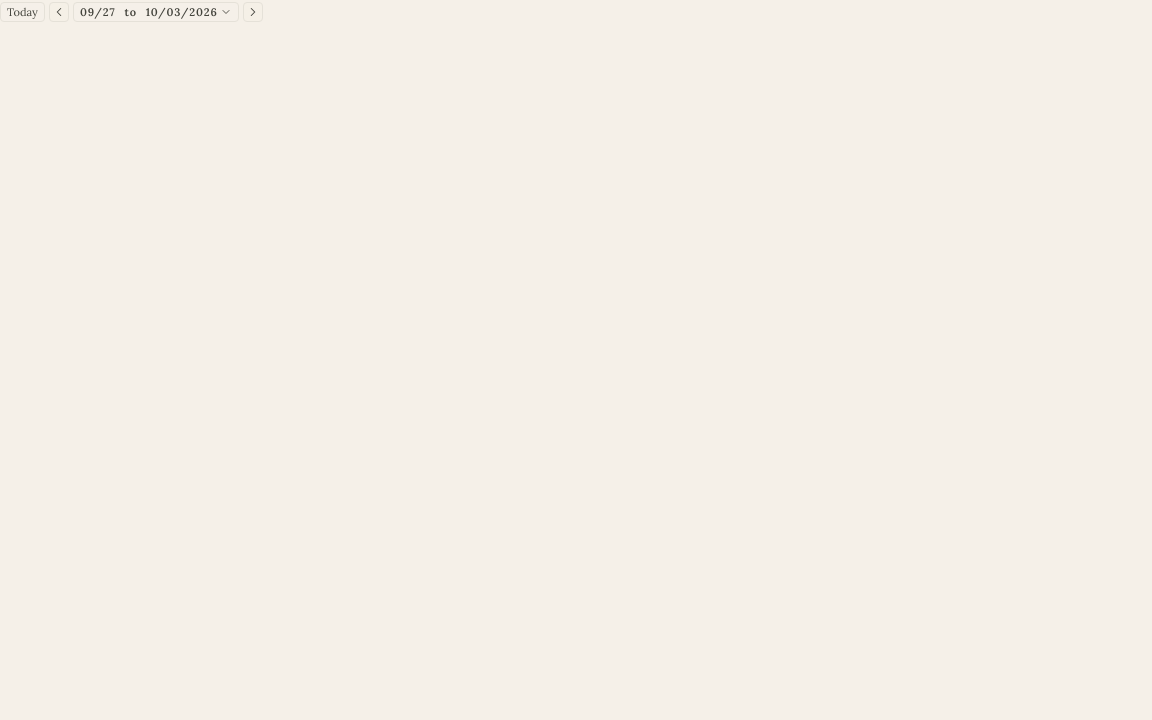
Test: WeekSelector › opens a calendar from the range button and picks the week of a clicked day
The image size is (1152, 720).
Click the button "09/27 to 10/03/2026".
click(156, 12)  # box top-left (73, 2), bottom-right (239, 22)
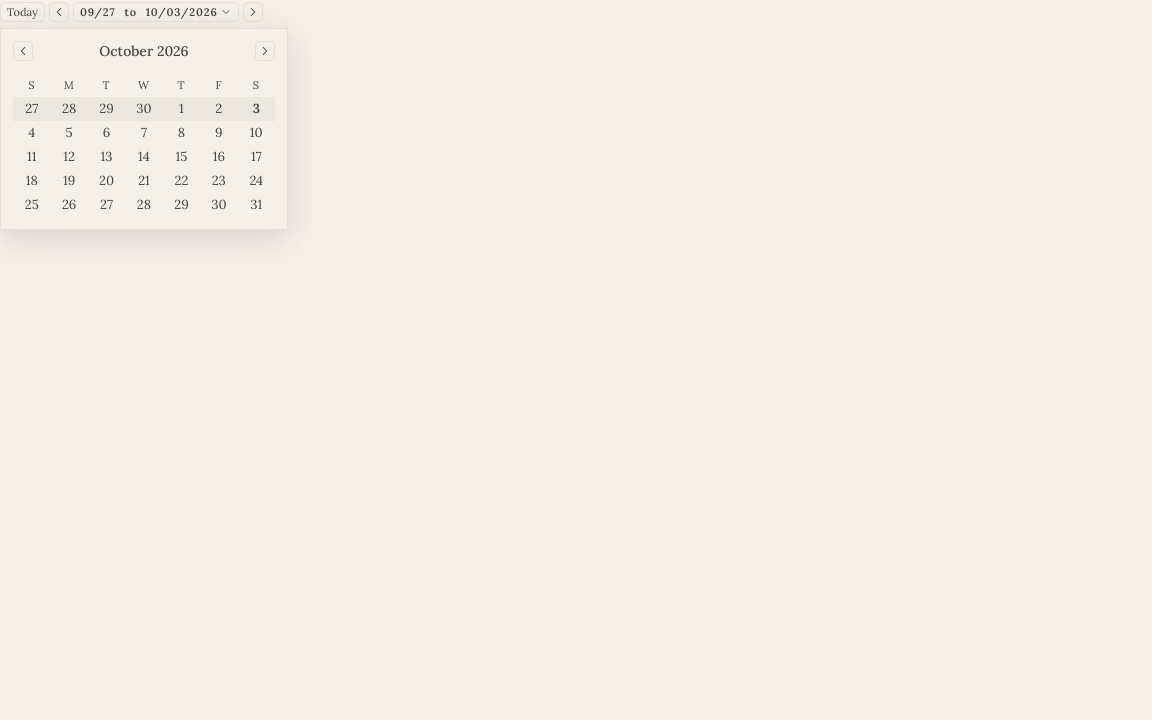
expect the text "October 2026" is shown: met, box top-left (99, 41), bottom-right (189, 61)
Click the button "15".
click(181, 157)  # box top-left (163, 145), bottom-right (200, 169)
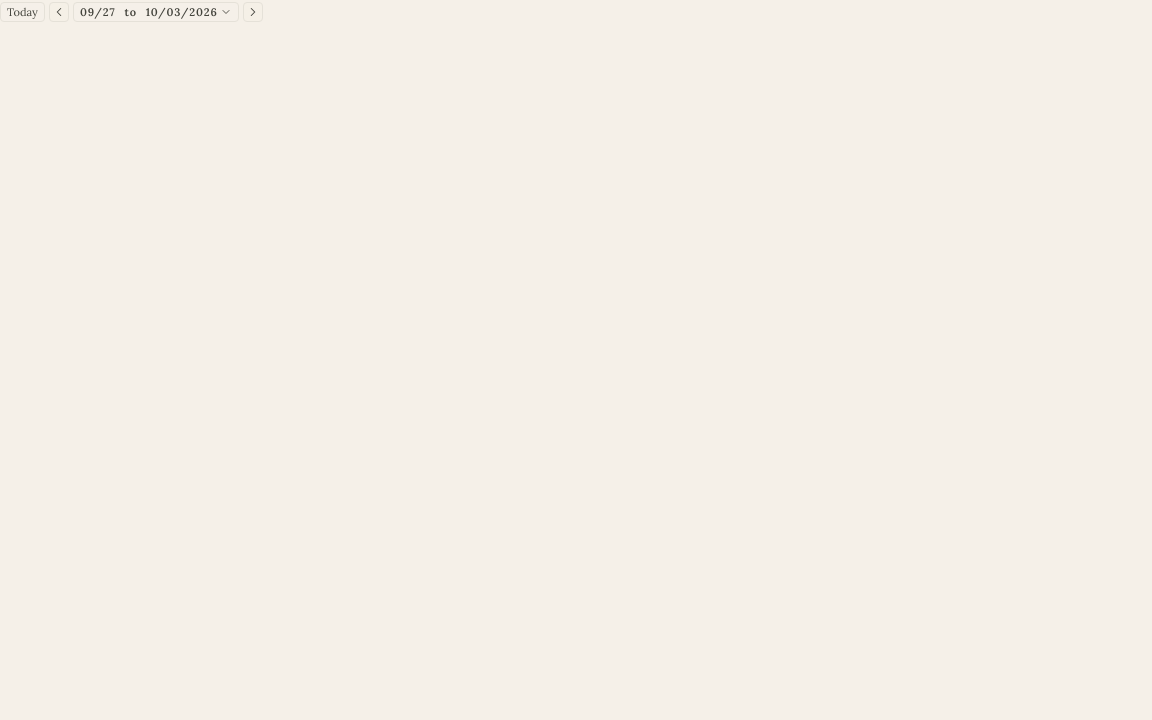
expect the dialog is gone: met
